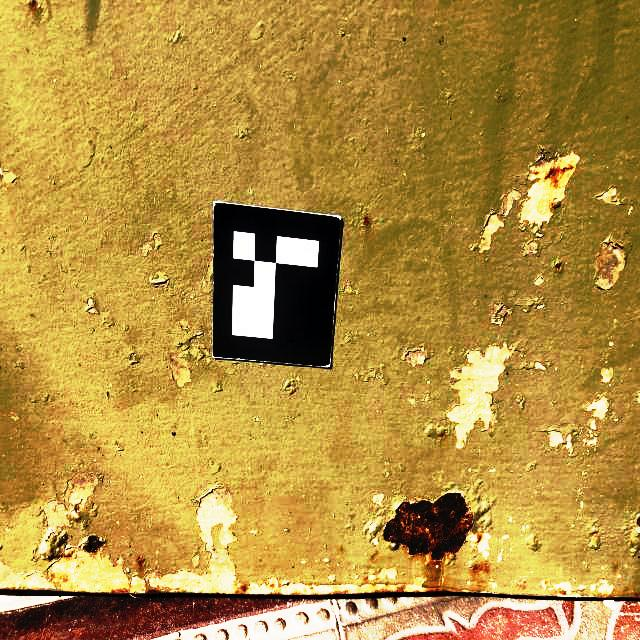Corrosion: (384, 493, 474, 562), (533, 165, 574, 186), (83, 535, 105, 553), (372, 585, 407, 593), (473, 561, 490, 575), (108, 586, 131, 593), (136, 556, 144, 569), (329, 590, 348, 594), (145, 589, 160, 594), (240, 584, 248, 593), (475, 533, 482, 542), (631, 592, 640, 599), (591, 531, 599, 538), (364, 217, 370, 225), (636, 516, 640, 528), (268, 592, 284, 595), (555, 263, 562, 269), (32, 0, 37, 8), (372, 552, 377, 559), (562, 590, 568, 595), (545, 580, 550, 586), (269, 583, 275, 588), (365, 576, 368, 580)
